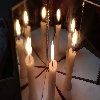fire: (51, 40, 55, 60)
